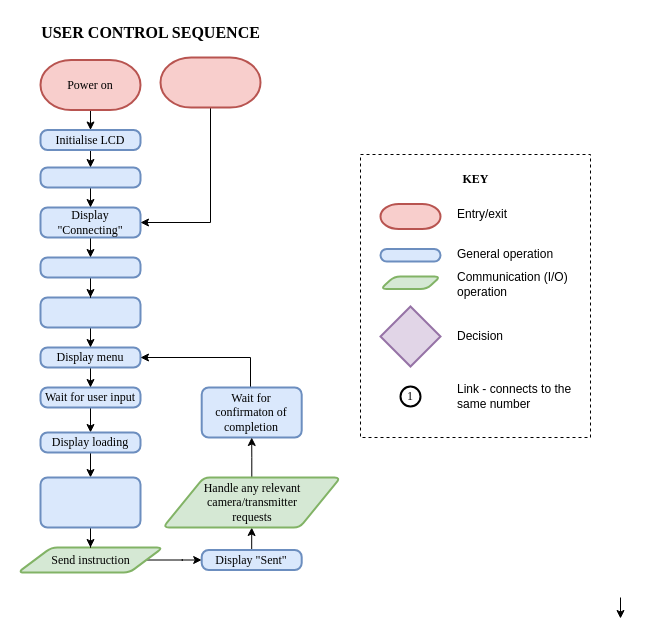
This 646x644 diagram has some shape labels left out. Each missing label, with the centre of its shape:
"Camera/transmitter disconnected" belongs at (x=210, y=82).
"Initialise SD card" belongs at (x=90, y=177).
"Trigger RF linker" belongs at (x=90, y=267).
"Wait for instruction request from camera/transmitter" belongs at (x=90, y=502).
"Wait for Wifi connecting" belongs at (x=90, y=312).
